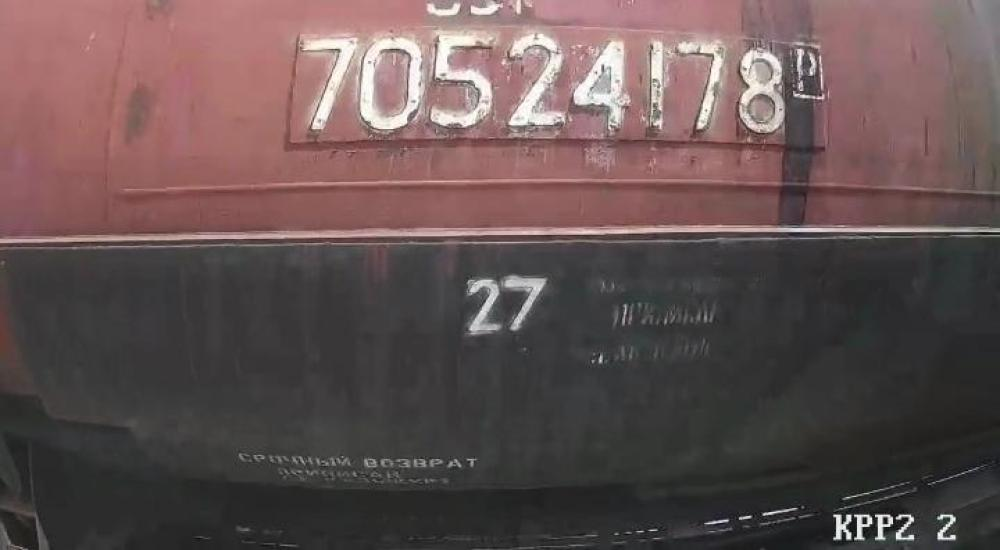Wagon-number: (294, 35, 792, 145)
